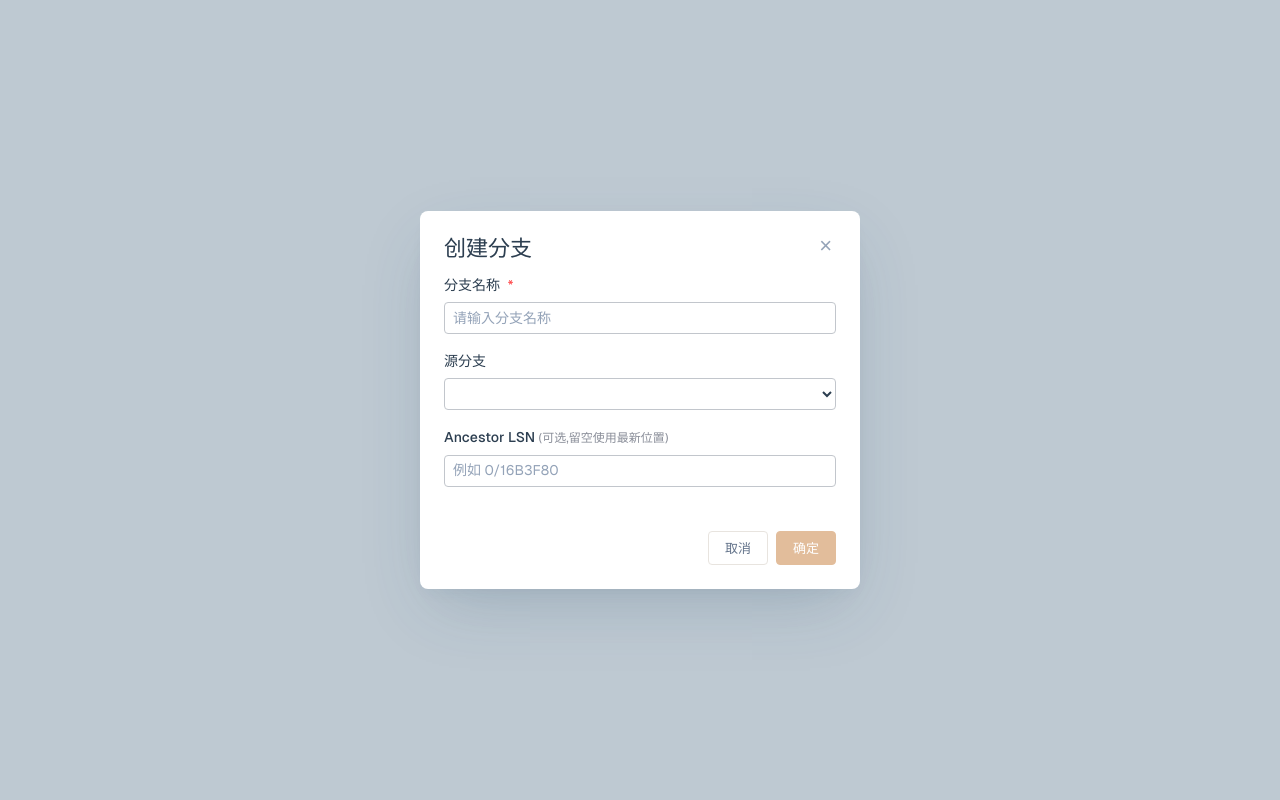
Test case: CreateBranchDialog › enables submit button when name is filled
In the field with placeholder "请输入分支名称": (640, 318) [444,302,836,334], type "new-branch"
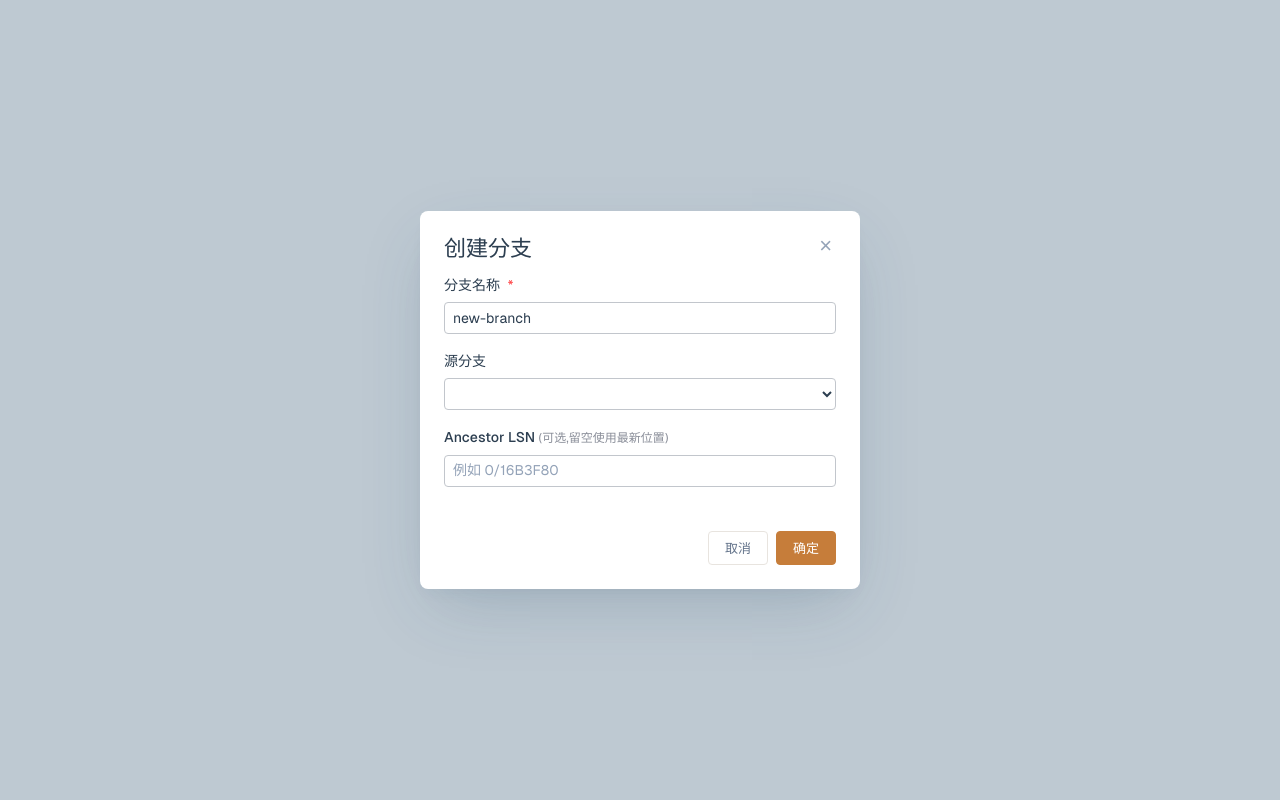
Result: the button "确定" is enabled at [776,531,836,565]
